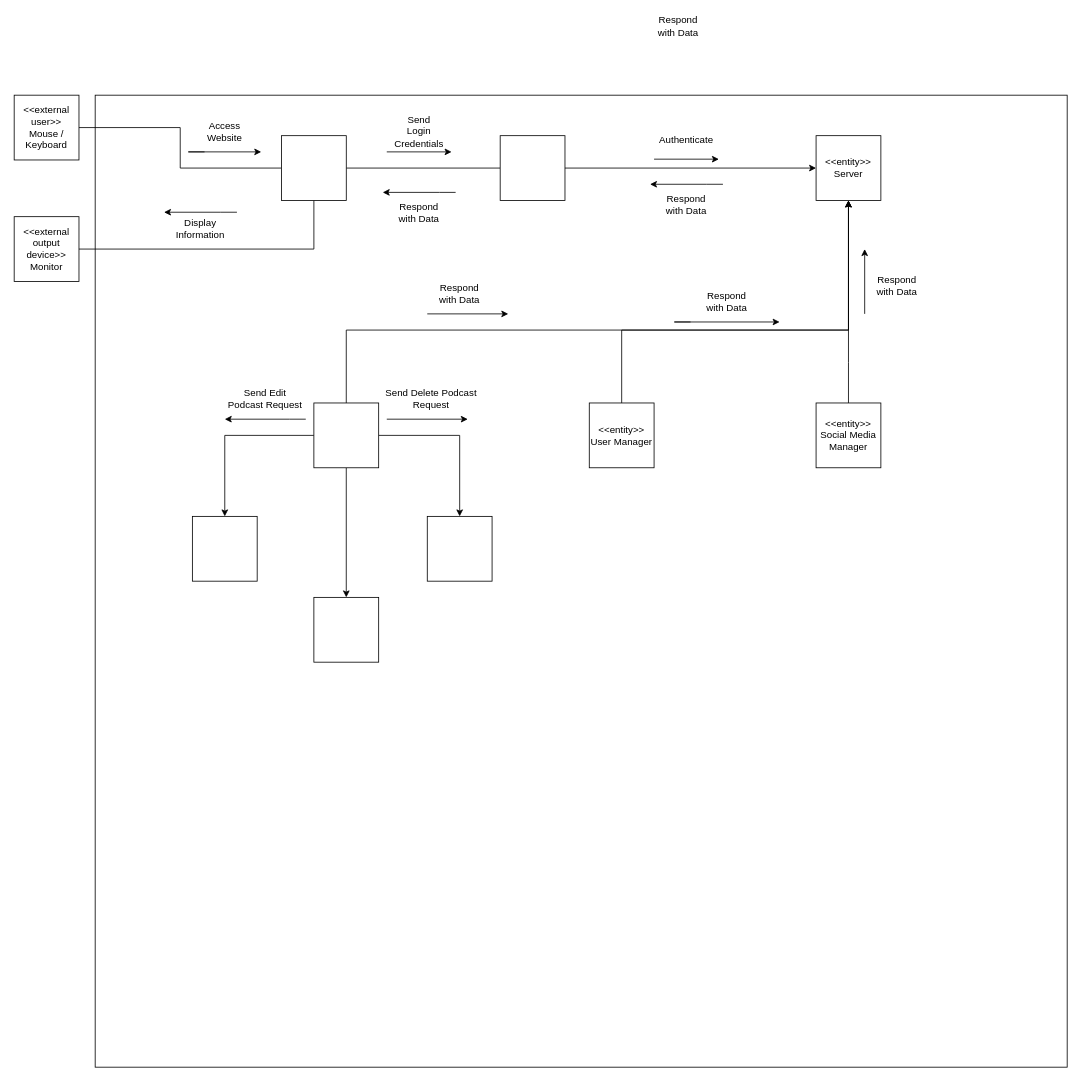
The diagram is 1081 pixels wide and 1081 high, and some of its shapes have lost their labels. The shapes that lost their labels are listed below. From the top down, each one's centre as x and y in pixels, then its label:
the point at 313,167: <<user interaction>> User Interface
the point at 532,167: <<entity>> Account
the point at 346,435: <<entity>> Podcast Manager
